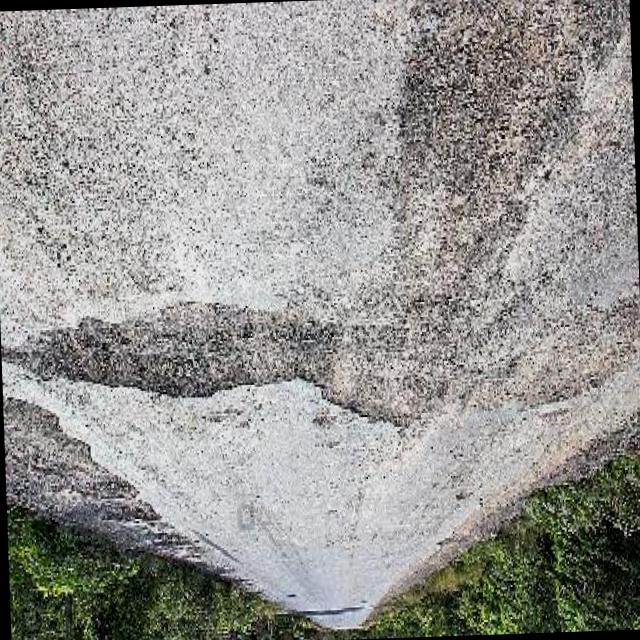pothole: (22, 304, 299, 408), (308, 308, 422, 436)
